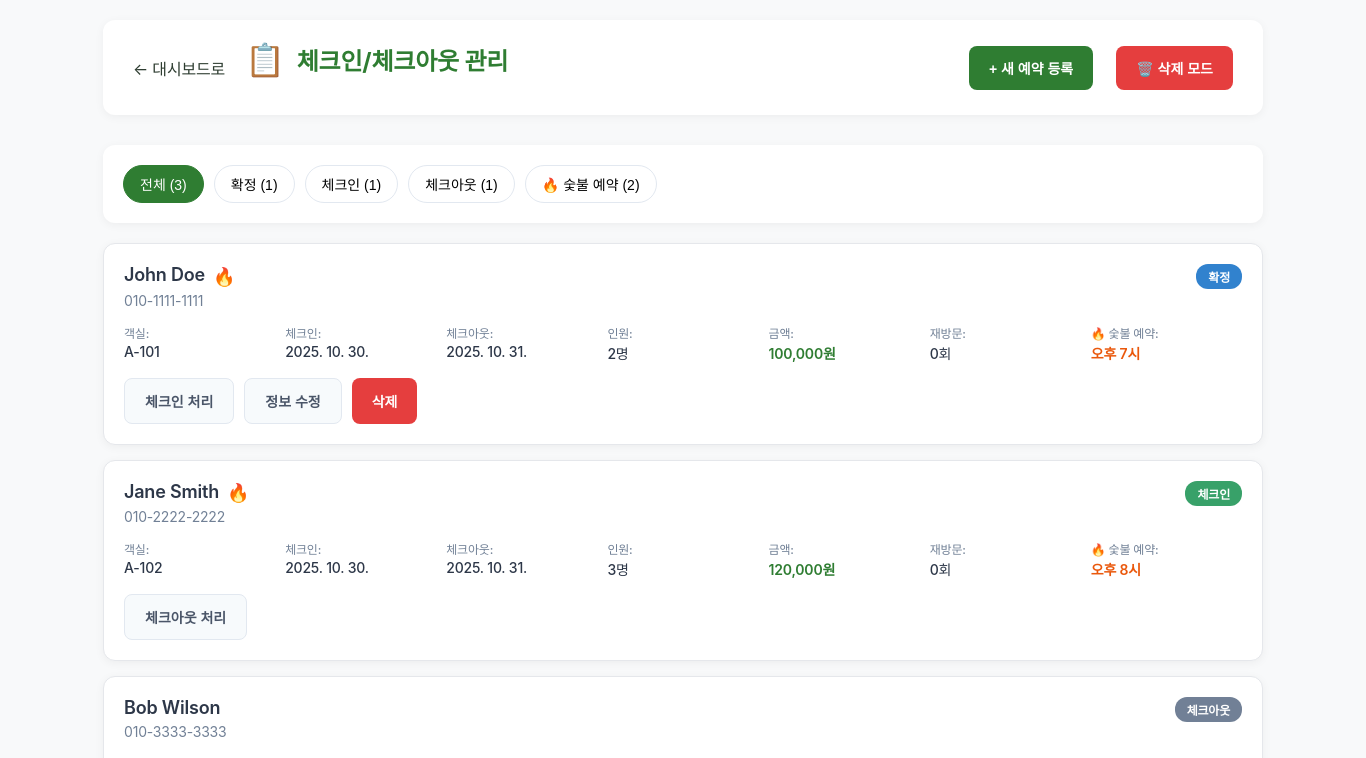
ReservationManagement - Charcoal Reservation Display › Filter functionality - charcoal filter › should toggle charcoal filter off when clicked again
Check: the heading "John Doe🔥" is shown, box [124,264,235,287]
Click filter on
Click the button "🔥 숯불 예약 (2)". click: (591, 184)
box: [525,165,657,203]
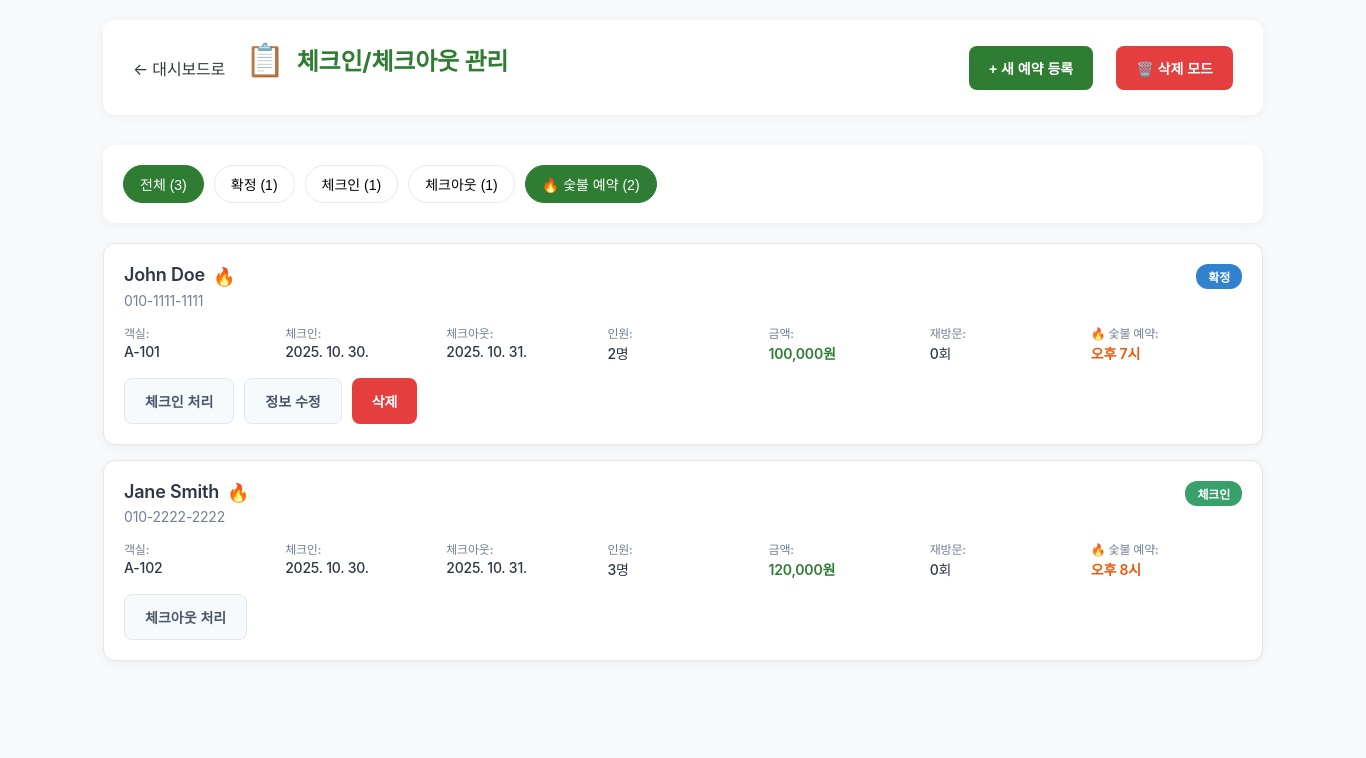
Check: the heading "Bob Wilson" is gone
Click filter off
Click the button "🔥 숯불 예약 (2)". click: (591, 184)
box: [525,165,657,203]
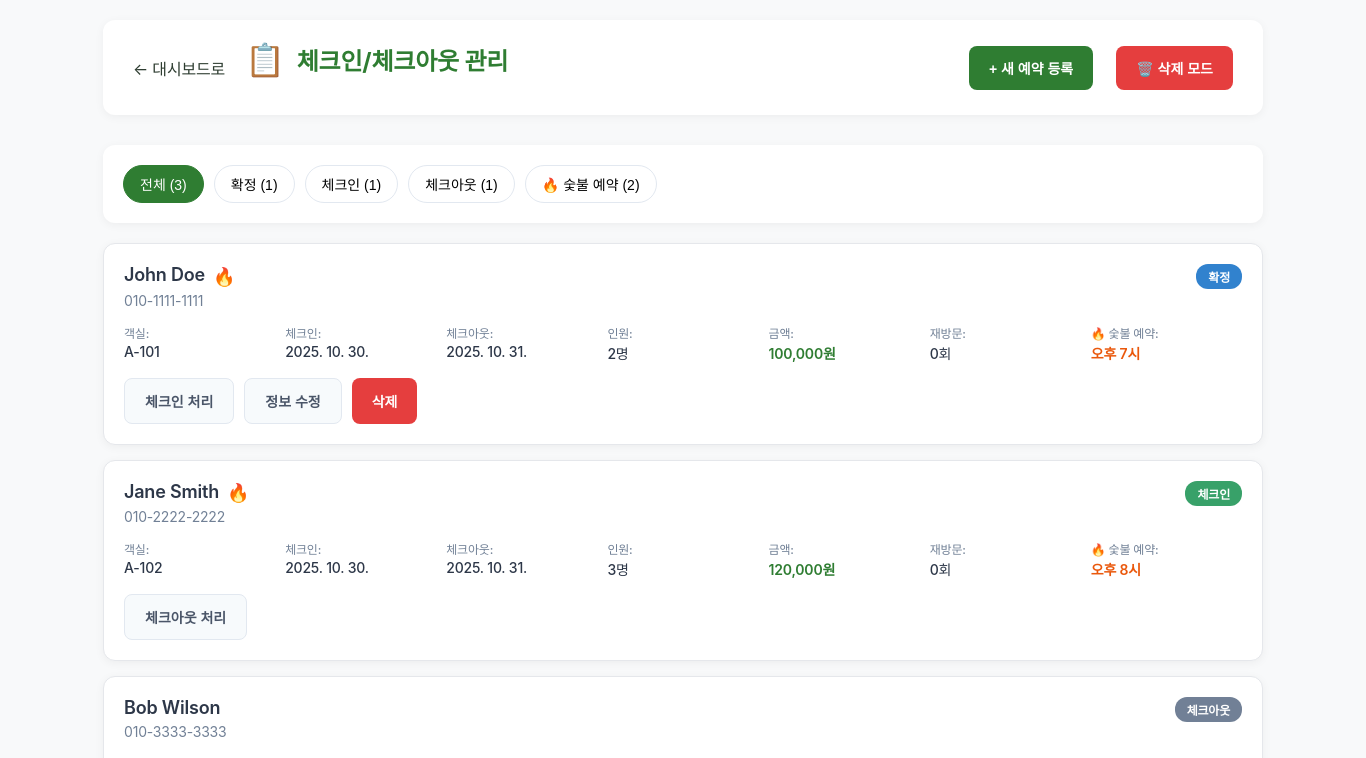
Check: the heading "John Doe🔥" is shown, box [124,264,235,287]
Check: the heading "Bob Wilson" is shown, box [124,697,226,718]
